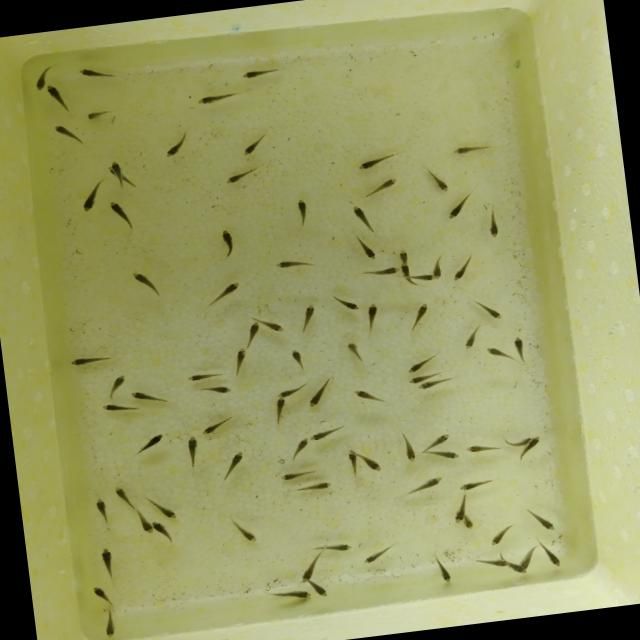fingerling: (536, 537, 567, 573), (74, 184, 104, 218), (54, 121, 89, 149), (180, 432, 207, 468), (239, 130, 274, 156), (47, 82, 73, 116), (530, 509, 562, 536), (221, 449, 249, 479), (133, 430, 168, 454), (130, 266, 160, 294), (103, 374, 131, 403), (349, 200, 376, 230), (214, 224, 237, 259), (104, 198, 133, 225), (162, 134, 192, 160), (352, 386, 389, 407), (292, 560, 324, 584), (198, 380, 240, 398), (305, 379, 331, 407), (408, 300, 436, 326), (96, 543, 118, 576), (130, 386, 166, 406), (274, 586, 314, 604), (271, 255, 313, 272), (198, 88, 240, 105), (149, 516, 176, 542), (486, 521, 514, 546), (400, 356, 435, 376), (479, 300, 508, 324), (442, 198, 471, 222), (289, 479, 335, 494), (485, 204, 504, 240), (234, 520, 260, 546), (200, 415, 232, 436), (408, 473, 443, 492), (298, 300, 320, 330), (274, 467, 318, 482), (354, 154, 390, 172), (354, 236, 377, 264), (31, 62, 54, 90), (332, 293, 364, 313), (359, 548, 391, 568), (66, 352, 108, 367), (241, 65, 283, 80), (99, 610, 120, 640), (429, 170, 453, 196), (90, 580, 114, 606), (216, 277, 244, 299), (290, 435, 315, 459), (450, 494, 470, 524), (360, 452, 386, 475), (292, 197, 310, 230), (82, 105, 119, 121), (414, 376, 451, 392), (153, 501, 181, 522), (450, 142, 489, 157), (474, 554, 510, 570), (308, 424, 340, 442), (111, 482, 134, 507), (225, 168, 258, 185), (427, 428, 455, 448), (373, 174, 401, 193), (430, 446, 463, 462), (243, 318, 263, 344), (434, 559, 454, 585), (460, 325, 481, 349), (272, 396, 290, 424), (265, 316, 286, 340), (92, 496, 110, 524), (229, 347, 249, 372), (463, 441, 498, 455), (451, 258, 473, 280), (308, 578, 330, 600), (484, 343, 512, 360), (364, 298, 381, 326), (79, 64, 113, 78), (410, 370, 444, 384), (101, 398, 132, 413), (402, 435, 418, 464), (274, 382, 303, 398), (347, 340, 366, 364), (512, 334, 528, 362), (322, 540, 354, 554), (346, 446, 360, 478), (457, 479, 490, 492), (366, 264, 401, 276), (136, 514, 154, 537), (519, 546, 539, 566), (110, 156, 124, 184), (184, 370, 216, 382), (392, 247, 416, 263), (507, 561, 530, 577), (430, 261, 446, 281), (401, 262, 412, 290), (290, 346, 304, 365), (410, 272, 435, 282), (526, 434, 544, 446), (464, 516, 474, 531)
